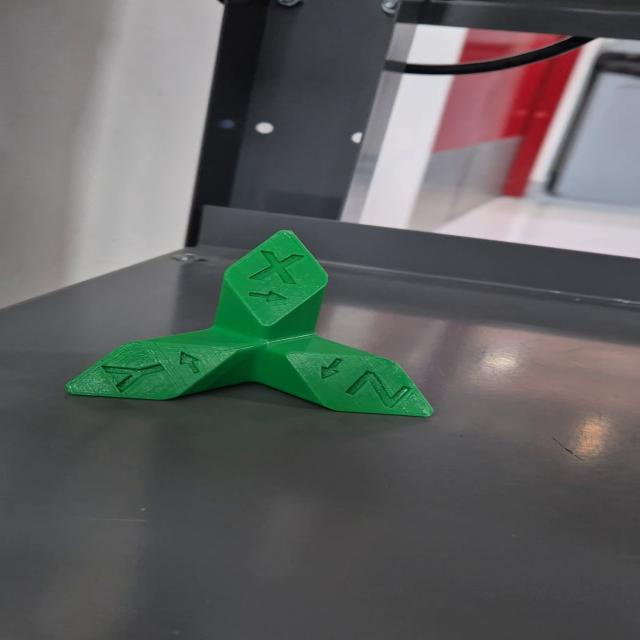objects: (60, 227, 442, 422)
